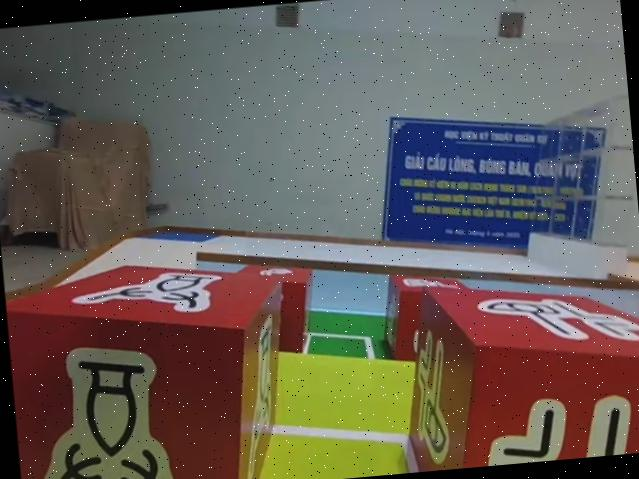R2 Real: (1, 245, 300, 479), (393, 261, 639, 472)
